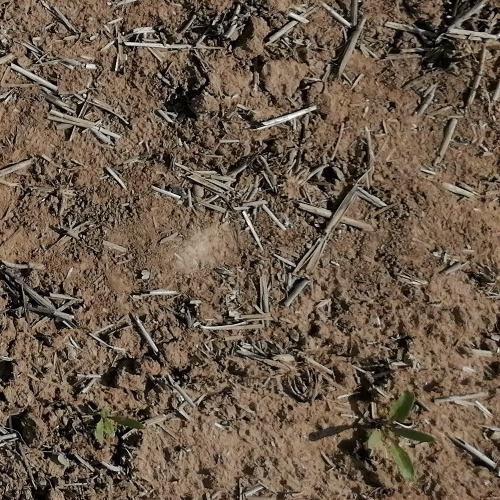beet: (366, 389, 435, 479), (93, 407, 145, 442)
